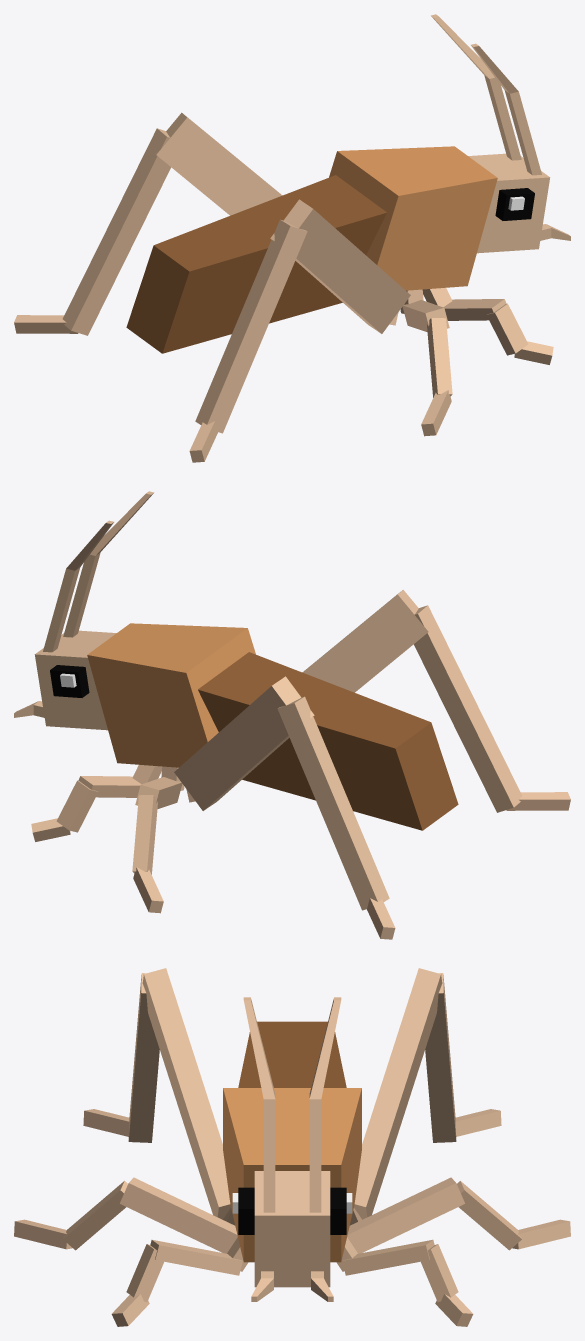
Rendered from cricket.gltf.
3 views of the same model, one above another, from view 1: azimuth 30°, elevation 25°; view 2: azimuth 150°, elevation 25°; view 3: azimuth 270°, elevation 25° (orthographic). The views are drawn at different scales.
Visible parts, largest first — view 1: cricket; view 2: cricket; view 3: cricket.
Boxes of the visible parts, box(x1,y1,x2,y2) form: cricket: box(14, 14, 570, 462); cricket: box(14, 491, 570, 939); cricket: box(14, 968, 570, 1326).
Bounding box in the file's own units: 3.28 × 1.96 × 3.11.
1 material, 1 textured.
